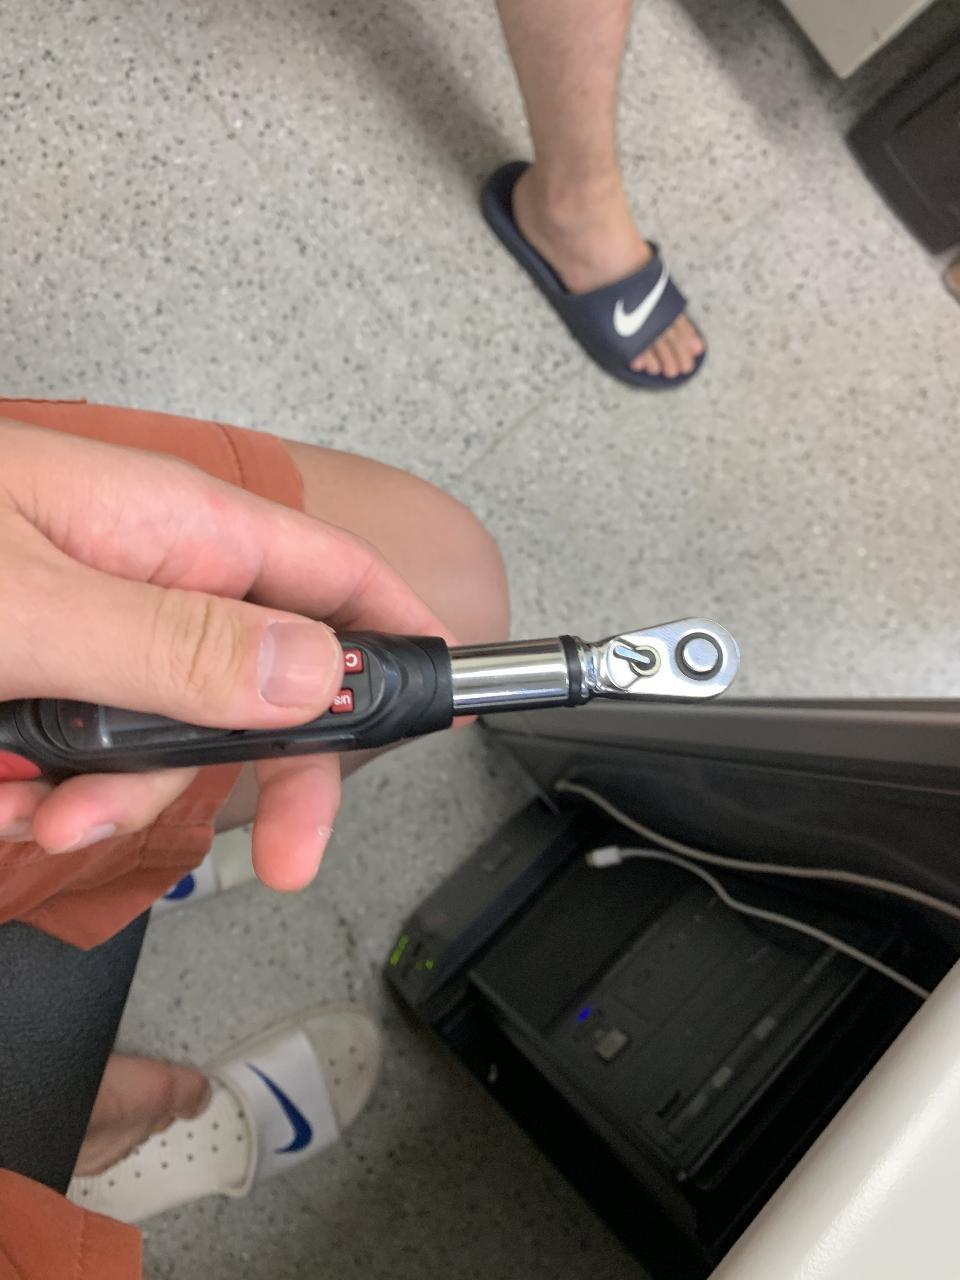Tool: (574, 605, 740, 718)
